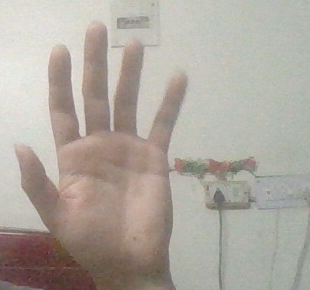move: (10, 33, 187, 281)
